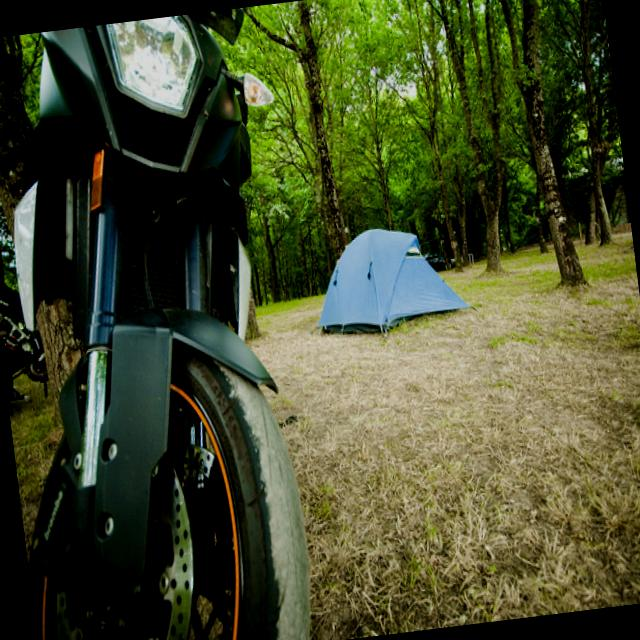Vehicle: (0, 4, 340, 640), (0, 267, 51, 408)
